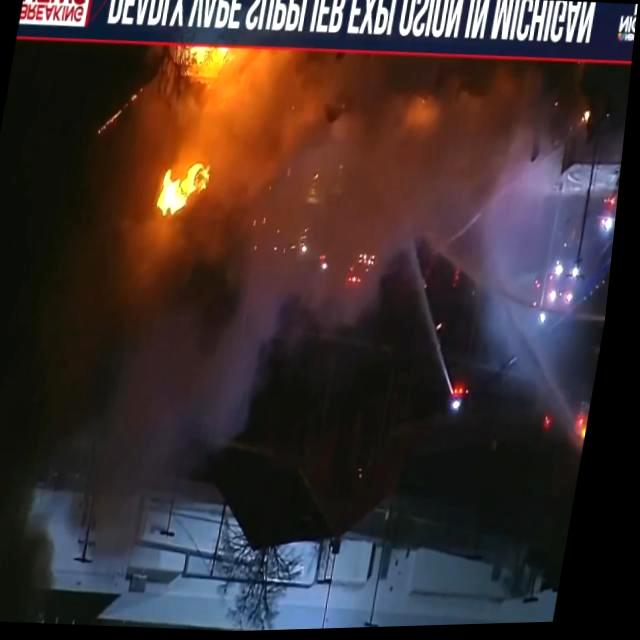fire: (118, 136, 250, 292), (147, 41, 273, 114)
